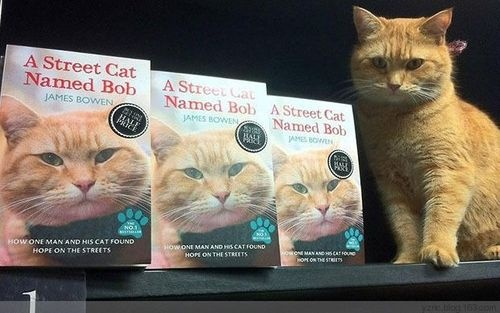cat: (346, 6, 500, 268), (1, 95, 151, 262), (149, 116, 276, 236), (270, 139, 362, 242)
